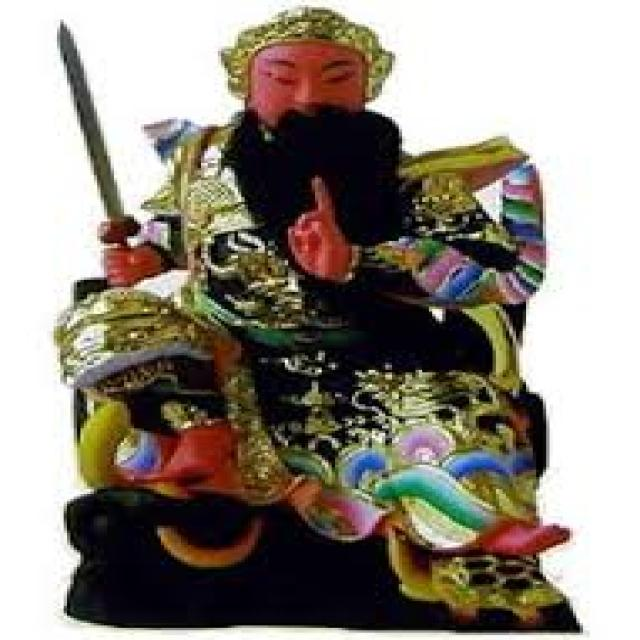Xuan wu: (68, 6, 577, 556)
